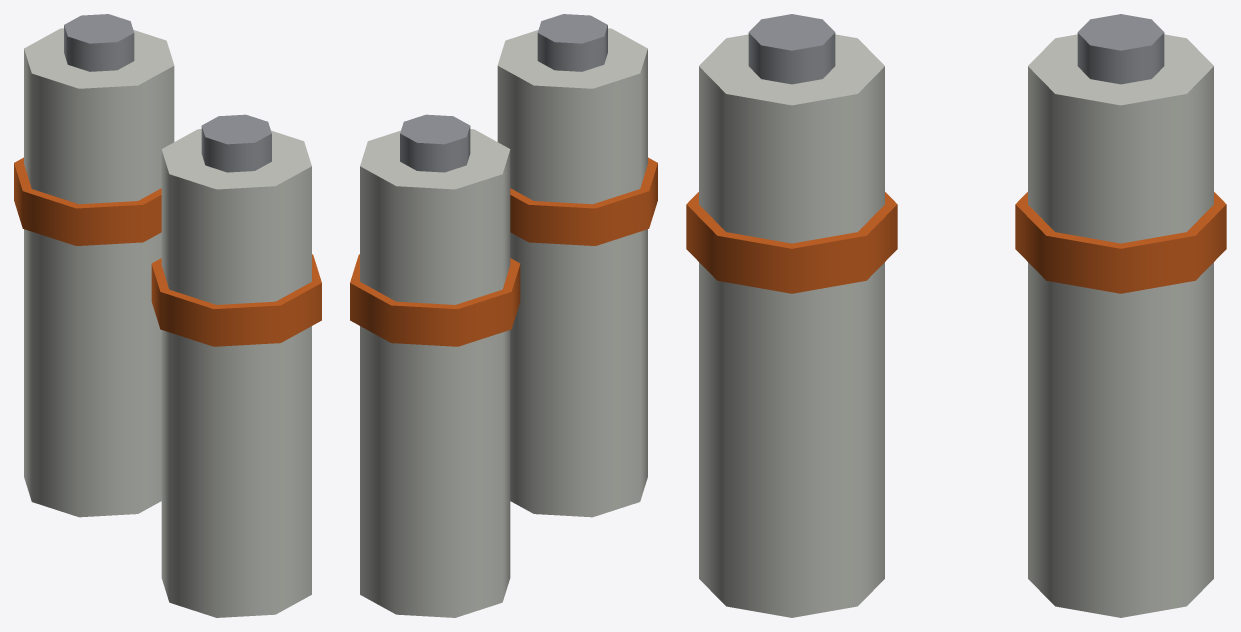
Rendered from o4_scrubber.obj.
3 views of the same model, side by side, from view 1: azimuth 30°, elevation 25°; view 2: azimuth 150°, elevation 25°; view 3: azimuth 270°, elevation 25° (orthographic). The views are drawn at different scales.
Parts seen in each view (by area): view 1: o4_scrubber; view 2: o4_scrubber; view 3: o4_scrubber.
Part boxes in pixels (left/top/right/bottom): o4_scrubber: left=14, top=14, right=321, bottom=617; o4_scrubber: left=350, top=14, right=657, bottom=617; o4_scrubber: left=686, top=14, right=1226, bottom=617.
Bounding box in the file's own units: 0.34 × 0.971 × 0.87.
